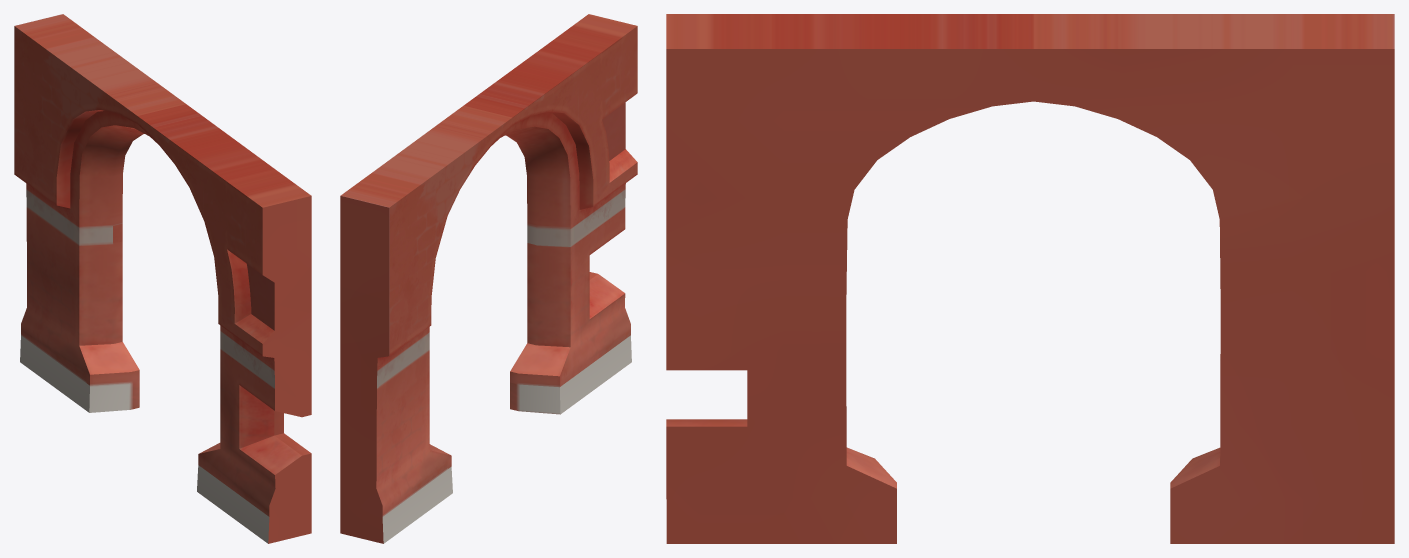
The model's file is sm_building_wall03.fbx.
3 views of the same model, side by side, from view 1: azimuth 30°, elevation 25°; view 2: azimuth 150°, elevation 25°; view 3: azimuth 270°, elevation 25° (orthographic). The views are drawn at different scales.
Parts seen in each view (by area): view 1: sm_building_wall01_07.001; view 2: sm_building_wall01_07.001; view 3: sm_building_wall01_07.001.
Boxes of the visible parts, bbox=[...] form: sm_building_wall01_07.001: bbox=[14, 14, 311, 543]; sm_building_wall01_07.001: bbox=[340, 14, 637, 543]; sm_building_wall01_07.001: bbox=[666, 14, 1394, 543].
Bounding box in the file's own units: 58.19 × 384 × 512.
Materials: 1 (1 with a texture image).
